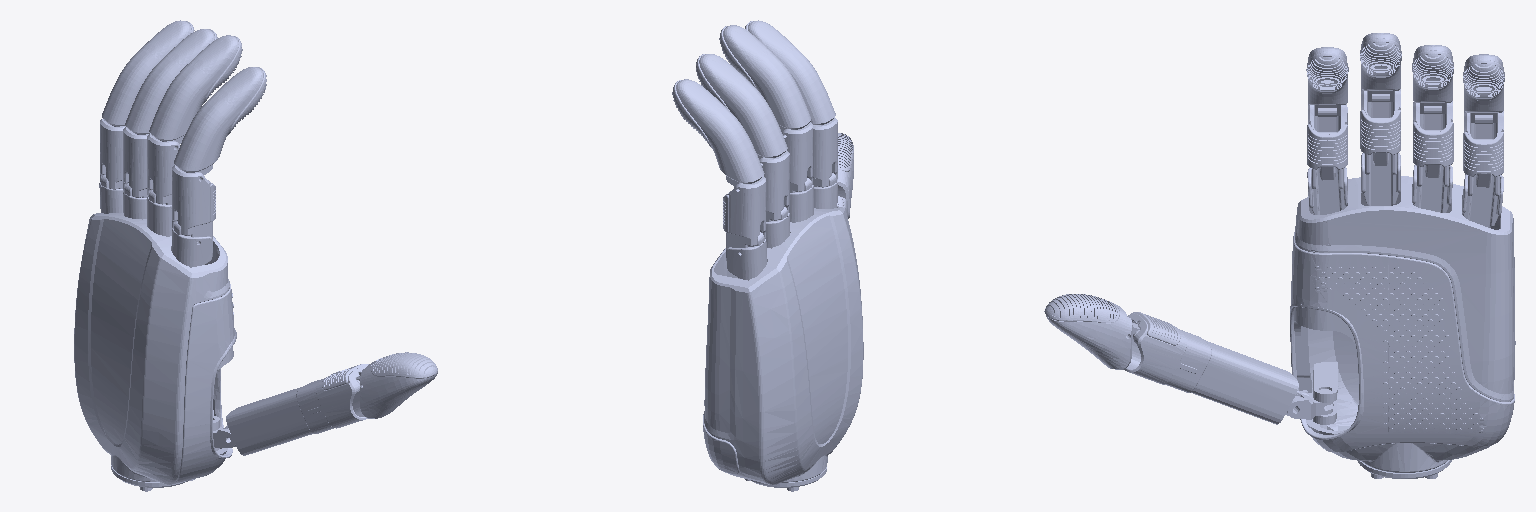
URDF robot description (hand):
<?xml version='1.0' encoding='UTF-8'?>
<robot name="hand">
  <material name="black">
    <color rgba="0.0 0.0 0.0 1.0" />
  </material>
  <material name="blue">
    <color rgba="0.0 0.0 0.8 1.0" />
  </material>
  <material name="green">
    <color rgba="0.0 0.8 0.0 1.0" />
  </material>
  <material name="grey">
    <color rgba="0.2 0.2 0.2 1.0" />
  </material>
  <material name="orange">
    <color rgba="1.0 0.423529411765 0.0392156862745 1.0" />
  </material>
  <material name="brown">
    <color rgba="0.870588235294 0.811764705882 0.764705882353 1.0" />
  </material>
  <material name="red">
    <color rgba="0.8 0.0 0.0 1.0" />
  </material>
  <material name="white">
    <color rgba="1.0 1.0 1.0 1.0" />
  </material>
  <material name="Beige">
    <color rgba="1.0 0.784 0.5765 1.0" />
  </material>
  <link name="lh_hand_base_link">
    <inertial>
      <origin xyz="0.00199 -0.00091 0.058381" rpy="0 0 0" />
      <mass value="0.4185" />
      <inertia ixx="0.0004998" ixy="0.000012853" ixz="-0.000008317" iyy="0.0003567" iyz="0.000010354" izz="0.0002301" />
    </inertial>
    <visual>
      <origin xyz="0 0 0" rpy="0 0 0" />
      <geometry>
        <mesh filename="meshes/visual/lh_hand_base_link_vis.obj" />
      </geometry>
      <material name="">
        <color rgba="0.796078431372549 0.823529411764706 0.937254901960784 1" />
      </material>
    </visual>
    <collision>
      <origin xyz="0 0 0" rpy="0 0 0" />
      <geometry>
        <mesh filename="meshes/visual/lh_hand_base_link_vis.obj" />
      </geometry>
    </collision>
  </link>
  <link name="lh_thumb_metacarpals_base1">
    <inertial>
      <origin xyz="0.0018663 -0.0066406 0.001533" rpy="0 0 0" />
      <mass value="0.01" />
      <inertia ixx="3.3724E-07" ixy="1.11E-07" ixz="-3.6039E-08" iyy="2.9457E-07" iyz="5.7181E-08" izz="4.903E-07" />
    </inertial>
    <visual>
      <origin xyz="0 0 0" rpy="0 0 0" />
      <geometry>
        <mesh filename="meshes/visual/lh_thumb_metacarpals_base1_vis.obj" />
      </geometry>
      <material name="">
        <color rgba="0.796078431372549 0.823529411764706 0.937254901960784 1" />
      </material>
    </visual>
    <collision>
      <origin xyz="0 0 0" rpy="0 0 0" />
      <geometry>
        <mesh filename="meshes/visual/lh_thumb_metacarpals_base1_vis.obj" />
      </geometry>
    </collision>
  </link>
  <joint name="lh_thumb_cmc_roll" type="revolute">
    <origin xyz="0.0078133 -0.029898 0.026692" rpy="-0.034907 0 0" />
    <parent link="lh_hand_base_link" />
    <child link="lh_thumb_metacarpals_base1" />
    <axis xyz="0 0 1" />
    <limit lower="-0.087266" upper="1.256637" effort="0.588" velocity="5.95" />
    <dynamics damping="0.02" friction="0.05416667" />
  </joint>
  <link name="lh_thumb_metacarpals">
    <inertial>
      <origin xyz="0.00769270907060086 0.0859662184722988 0.0235283086675235" rpy="0 0 0" />
      <mass value="0.065" />
      <inertia ixx="8.407E-06" ixy="-1.1338E-09" ixz="1.1136E-08" iyy="8.3899E-06" iyz="3.1171E-07" izz="2.0091E-06" />
    </inertial>
    <visual>
      <origin xyz="0 0 0" rpy="0 0 0" />
      <geometry>
        <mesh filename="meshes/visual/lh_thumb_metacarpals_vis.obj" />
      </geometry>
      <material name="">
        <color rgba="0.796078431372549 0.823529411764706 0.937254901960784 1" />
      </material>
    </visual>
    <collision>
      <origin xyz="0 0 0" rpy="0 0 0" />
      <geometry>
        <mesh filename="meshes/visual/lh_thumb_metacarpals_vis.obj" />
      </geometry>
    </collision>
  </link>
  <joint name="lh_thumb_cmc_pitch" type="revolute">
    <origin xyz="0.0057298 -0.01332 0.0027456" rpy="1.1083 0 0.40143" />
    <parent link="lh_thumb_metacarpals_base1" />
    <child link="lh_thumb_metacarpals" />
    <axis xyz="-1 0 0" />
    <limit lower="0" upper="0.837758" effort="1.008" velocity="3.47" />
    <dynamics damping="0.02" friction="0.0375" />
  </joint>
  <link name="lh_thumb_distal">
    <inertial>
      <origin xyz="0.00769270907081708 0.0798662184721594 -0.0591716913325555" rpy="0 0 0" />
      <mass value="0.018" />
      <inertia ixx="1.5546E-06" ixy="2.4423E-09" ixz="2.8147E-09" iyy="1.7108E-06" iyz="-7.2756E-08" izz="9.1709E-07" />
    </inertial>
    <visual>
      <origin xyz="0 0 0" rpy="0 0 0" />
      <geometry>
        <mesh filename="meshes/visual/lh_thumb_distal_vis.obj" />
      </geometry>
      <material name="">
        <color rgba="0.796078431372549 0.823529411764706 0.937254901960784 1" />
      </material>
    </visual>
    <collision>
      <origin xyz="0 0 0" rpy="0 0 0" />
      <geometry>
        <mesh filename="meshes/visual/lh_thumb_distal_vis.obj" />
      </geometry>
    </collision>
  </link>
  <link name="lh_thumb_tip">
    <visual>
      <origin xyz="0 0 0" rpy="0 0 0" />
      <geometry>
        <box size="0.0001 0.0001 0.0001" />
      </geometry>
      <material name="white" />
    </visual>
    <collision>
      <origin xyz="0 0 0" rpy="0 0 0" />
      <geometry>
        <box size="0.0001 0.0001 0.0001" />
      </geometry>
    </collision>
    <inertial>
      <origin xyz="0 0 0" rpy="0 0 0" />
      <mass value="1e-06" />
      <inertia ixx="1e-09" ixy="0" ixz="0" iyy="1e-09" iyz="0" izz="1e-09" />
    </inertial>
  </link>
  <joint name="lh_thumb_tip_fixed" type="fixed">
    <origin xyz="0 0.0035 0.026" rpy="0 0 1.5708" />
    <parent link="lh_thumb_distal" />
    <child link="lh_thumb_tip" />
  </joint>
  <joint name="lh_thumb_dip" type="revolute">
    <origin xyz="0 0.0061 0.0827" rpy="0 0 0" />
    <parent link="lh_thumb_metacarpals" />
    <child link="lh_thumb_distal" />
    <axis xyz="-1 0 0" />
    <limit lower="0" upper="0.963287" effort="0" velocity="1.7" />
    <mimic joint="lh_thumb_cmc_pitch" multiplier="1.226495" offset="0" />
  </joint>
  <link name="lh_index_proximal">
    <inertial>
      <origin xyz="0.001776 -0.00011 0.012556" rpy="0 0 0" />
      <mass value="0.008553" />
      <inertia ixx="0.000000797543" ixy="-0.000000001275" ixz="0.000000138601" iyy="0.000000800499" iyz="0.000000000939" izz="0.000000357001" />
    </inertial>
    <visual>
      <origin xyz="0 0 0" rpy="0 0 0" />
      <geometry>
        <mesh filename="meshes/visual/lh_index_proximal_vis.obj" />
      </geometry>
      <material name="">
        <color rgba="0.796078431372549 0.823529411764706 0.937254901960784 1" />
      </material>
    </visual>
    <collision>
      <origin xyz="0 0 0" rpy="0 0 0" />
      <geometry>
        <mesh filename="meshes/visual/lh_index_proximal_vis.obj" />
      </geometry>
    </collision>
  </link>
  <joint name="lh_index_mcp_pitch" type="revolute">
    <origin xyz="-0.00066821 -0.028967 0.11722" rpy="0 0 0" />
    <parent link="lh_hand_base_link" />
    <child link="lh_index_proximal" />
    <axis xyz="0 1 0" />
    <limit lower="0" upper="1.134464" effort="0.574" velocity="6.10" />
    <dynamics damping="0.01" friction="0.04" />
  </joint>
  <link name="lh_index_distal">
    <inertial>
      <origin xyz="0.0134 0.002262 0.016992" rpy="0 0 0" />
      <mass value="0.018408" />
      <inertia ixx="0.000002488712" ixy="0.000000008249" ixz="-0.000001523059" iyy="0.000003723754" iyz="0.000000014019" izz="0.000001813582" />
    </inertial>
    <visual>
      <origin xyz="0 0 0" rpy="0 0 0" />
      <geometry>
        <mesh filename="meshes/visual/lh_index_distal_vis.obj" />
      </geometry>
      <material name="">
        <color rgba="0.796078431372549 0.823529411764706 0.937254901960784 1" />
      </material>
    </visual>
    <collision>
      <origin xyz="0 0 0" rpy="0 0 0" />
      <geometry>
        <mesh filename="meshes/visual/lh_index_distal_vis.obj" />
      </geometry>
    </collision>
  </link>
  <link name="lh_index_tip">
    <visual>
      <origin xyz="0 0 0" rpy="0 0 0" />
      <geometry>
        <box size="0.0001 0.0001 0.0001" />
      </geometry>
      <material name="white" />
    </visual>
    <collision>
      <origin xyz="0 0 0" rpy="0 0 0" />
      <geometry>
        <box size="0.0001 0.0001 0.0001" />
      </geometry>
    </collision>
    <inertial>
      <origin xyz="0 0 0" rpy="0 0 0" />
      <mass value="1e-06" />
      <inertia ixx="1e-09" ixy="0" ixz="0" iyy="1e-09" iyz="0" izz="1e-09" />
    </inertial>
  </link>
  <joint name="lh_index_tip_fixed" type="fixed">
    <origin xyz="0.0341 0 0.034" rpy="0 0 0" />
    <parent link="lh_index_distal" />
    <child link="lh_index_tip" />
  </joint>
  <joint name="lh_index_dip" type="revolute">
    <origin xyz="0.00093749 0 0.028002" rpy="0 0 0" />
    <parent link="lh_index_proximal" />
    <child link="lh_index_distal" />
    <axis xyz="0 1 0" />
    <limit lower="0" upper="1.277039" effort="0" velocity="3.1" />
    <mimic joint="lh_index_mcp_pitch" multiplier="1.125676" offset="0" />
  </joint>
  <link name="lh_middle_proximal">
    <inertial>
      <origin xyz="0.001776 -0.00011 0.012556" rpy="0 0 0" />
      <mass value="0.008553" />
      <inertia ixx="0.000000797543" ixy="-0.000000001275" ixz="0.000000138601" iyy="0.000000800499" iyz="0.000000000939" izz="0.000000357001" />
    </inertial>
    <visual>
      <origin xyz="0 0 0" rpy="0 0 0" />
      <geometry>
        <mesh filename="meshes/visual/lh_middle_proximal_vis.obj" />
      </geometry>
      <material name="">
        <color rgba="0.796078431372549 0.823529411764706 0.937254901960784 1" />
      </material>
    </visual>
    <collision>
      <origin xyz="0 0 0" rpy="0 0 0" />
      <geometry>
        <mesh filename="meshes/visual/lh_middle_proximal_vis.obj" />
      </geometry>
    </collision>
  </link>
  <joint name="lh_middle_mcp_pitch" type="revolute">
    <origin xyz="-0.00066821 -0.0089013 0.12322" rpy="0 0 0" />
    <parent link="lh_hand_base_link" />
    <child link="lh_middle_proximal" />
    <axis xyz="0 1 0" />
    <limit lower="0" upper="1.134464" effort="0.574" velocity="6.10" />
    <dynamics damping="0.01" friction="0.02708333" />
  </joint>
  <link name="lh_middle_distal">
    <inertial>
      <origin xyz="0.0134 0.002262 0.016992" rpy="0 0 0" />
      <mass value="0.018408" />
      <inertia ixx="0.000002488712" ixy="0.000000008249" ixz="-0.000001523059" iyy="0.000003723754" iyz="0.000000014019" izz="0.000001813582" />
    </inertial>
    <visual>
      <origin xyz="0 0 0" rpy="0 0 0" />
      <geometry>
        <mesh filename="meshes/visual/lh_middle_distal_vis.obj" />
      </geometry>
      <material name="">
        <color rgba="0.796078431372549 0.823529411764706 0.937254901960784 1" />
      </material>
    </visual>
    <collision>
      <origin xyz="0 0 0" rpy="0 0 0" />
      <geometry>
        <mesh filename="meshes/visual/lh_middle_distal_vis.obj" />
      </geometry>
    </collision>
  </link>
  <link name="lh_middle_tip">
    <visual>
      <origin xyz="0 0 0" rpy="0 0 0" />
      <geometry>
        <box size="0.0001 0.0001 0.0001" />
      </geometry>
      <material name="white" />
    </visual>
    <collision>
      <origin xyz="0 0 0" rpy="0 0 0" />
      <geometry>
        <box size="0.0001 0.0001 0.0001" />
      </geometry>
    </collision>
    <inertial>
      <origin xyz="0 0 0" rpy="0 0 0" />
      <mass value="1e-06" />
      <inertia ixx="1e-09" ixy="0" ixz="0" iyy="1e-09" iyz="0" izz="1e-09" />
    </inertial>
  </link>
  <joint name="lh_middle_tip_fixed" type="fixed">
    <origin xyz="0.0341 0 0.034" rpy="0 0 0" />
    <parent link="lh_middle_distal" />
    <child link="lh_middle_tip" />
  </joint>
  <joint name="lh_middle_dip" type="revolute">
    <origin xyz="0.00093749 0 0.028002" rpy="0 0 0" />
    <parent link="lh_middle_proximal" />
    <child link="lh_middle_distal" />
    <axis xyz="0 1 0" />
    <limit lower="0" upper="1.277039" effort="0" velocity="3.1" />
    <mimic joint="lh_middle_mcp_pitch" multiplier="1.125676" offset="0" />
  </joint>
  <link name="lh_ring_proximal">
    <inertial>
      <origin xyz="0.001776 -0.00011 0.012556" rpy="0 0 0" />
      <mass value="0.008553" />
      <inertia ixx="0.000000797543" ixy="-0.000000001275" ixz="0.000000138601" iyy="0.000000800499" iyz="0.000000000939" izz="0.000000357001" />
    </inertial>
    <visual>
      <origin xyz="0 0 0" rpy="0 0 0" />
      <geometry>
        <mesh filename="meshes/visual/lh_ring_proximal_vis.obj" />
      </geometry>
      <material name="">
        <color rgba="0.796078431372549 0.823529411764706 0.937254901960784 1" />
      </material>
    </visual>
    <collision>
      <origin xyz="0 0 0" rpy="0 0 0" />
      <geometry>
        <mesh filename="meshes/visual/lh_ring_proximal_vis.obj" />
      </geometry>
    </collision>
  </link>
  <joint name="lh_ring_mcp_pitch" type="revolute">
    <origin xyz="-0.00067368 0.010717 0.11822" rpy="0 0 0" />
    <parent link="lh_hand_base_link" />
    <child link="lh_ring_proximal" />
    <axis xyz="0 1 0" />
    <limit lower="0" upper="1.134464" effort="0.574" velocity="6.10" />
    <dynamics damping="0.01" friction="0.02291667" />
  </joint>
  <link name="lh_ring_distal">
    <inertial>
      <origin xyz="0.0134 0.002262 0.016992" rpy="0 0 0" />
      <mass value="0.018408" />
      <inertia ixx="0.000002488712" ixy="0.000000008249" ixz="-0.000001523059" iyy="0.000003723754" iyz="0.000000014019" izz="0.000001813582" />
    </inertial>
    <visual>
      <origin xyz="0 0 0" rpy="0 0 0" />
      <geometry>
        <mesh filename="meshes/visual/lh_ring_distal_vis.obj" />
      </geometry>
      <material name="">
        <color rgba="0.796078431372549 0.823529411764706 0.937254901960784 1" />
      </material>
    </visual>
    <collision>
      <origin xyz="0 0 0" rpy="0 0 0" />
      <geometry>
        <mesh filename="meshes/visual/lh_ring_distal_vis.obj" />
      </geometry>
    </collision>
  </link>
  <link name="lh_ring_tip">
    <visual>
      <origin xyz="0 0 0" rpy="0 0 0" />
      <geometry>
        <box size="0.0001 0.0001 0.0001" />
      </geometry>
      <material name="white" />
    </visual>
    <collision>
      <origin xyz="0 0 0" rpy="0 0 0" />
      <geometry>
        <box size="0.0001 0.0001 0.0001" />
      </geometry>
    </collision>
    <inertial>
      <origin xyz="0 0 0" rpy="0 0 0" />
      <mass value="1e-06" />
      <inertia ixx="1e-09" ixy="0" ixz="0" iyy="1e-09" iyz="0" izz="1e-09" />
    </inertial>
  </link>
  <joint name="lh_ring_tip_fixed" type="fixed">
    <origin xyz="0.0341 0 0.034" rpy="0 0 0" />
    <parent link="lh_ring_distal" />
    <child link="lh_ring_tip" />
  </joint>
  <joint name="lh_ring_dip" type="revolute">
    <origin xyz="0.00093749 0 0.028002" rpy="0 0 0" />
    <parent link="lh_ring_proximal" />
    <child link="lh_ring_distal" />
    <axis xyz="0 1 0" />
    <limit lower="0" upper="1.277039" effort="0" velocity="3.1" />
    <mimic joint="lh_ring_mcp_pitch" multiplier="1.125676" offset="0" />
  </joint>
  <link name="lh_pinky_proximal">
    <inertial>
      <origin xyz="0.001776 -0.00011 0.012556" rpy="0 0 0" />
      <mass value="0.008553" />
      <inertia ixx="0.000000797543" ixy="-0.000000001275" ixz="0.000000138601" iyy="0.000000800499" iyz="0.000000000939" izz="0.000000357001" />
    </inertial>
    <visual>
      <origin xyz="0 0 0" rpy="0 0 0" />
      <geometry>
        <mesh filename="meshes/visual/lh_pinky_proximal_vis.obj" />
      </geometry>
      <material name="">
        <color rgba="0.796078431372549 0.823529411764706 0.937254901960784 1" />
      </material>
    </visual>
    <collision>
      <origin xyz="0 0 0" rpy="0 0 0" />
      <geometry>
        <mesh filename="meshes/visual/lh_pinky_proximal_vis.obj" />
      </geometry>
    </collision>
  </link>
  <joint name="lh_pinky_mcp_pitch" type="revolute">
    <origin xyz="-0.00067852 0.029814 0.11424" rpy="0 0 0" />
    <parent link="lh_hand_base_link" />
    <child link="lh_pinky_proximal" />
    <axis xyz="0 1 0" />
    <limit lower="0" upper="1.134464" effort="0.574" velocity="6.10" />
    <dynamics damping="0.01" friction="0.01" />
  </joint>
  <link name="lh_pinky_distal">
    <inertial>
      <origin xyz="0.0134 0.002262 0.016992" rpy="0 0 0" />
      <mass value="0.018408" />
      <inertia ixx="0.000002488712" ixy="0.000000008249" ixz="-0.000001523059" iyy="0.000003723754" iyz="0.000000014019" izz="0.000001813582" />
    </inertial>
    <visual>
      <origin xyz="0 0 0" rpy="0 0 0" />
      <geometry>
        <mesh filename="meshes/visual/lh_pinky_distal_vis.obj" />
      </geometry>
      <material name="">
        <color rgba="0.796078431372549 0.823529411764706 0.937254901960784 1" />
      </material>
    </visual>
    <collision>
      <origin xyz="0 0 0" rpy="0 0 0" />
      <geometry>
        <mesh filename="meshes/visual/lh_pinky_distal_vis.obj" />
      </geometry>
    </collision>
  </link>
  <link name="lh_pinky_tip">
    <visual>
      <origin xyz="0 0 0" rpy="0 0 0" />
      <geometry>
        <box size="0.0001 0.0001 0.0001" />
      </geometry>
      <material name="white" />
    </visual>
    <collision>
      <origin xyz="0 0 0" rpy="0 0 0" />
      <geometry>
        <box size="0.0001 0.0001 0.0001" />
      </geometry>
    </collision>
    <inertial>
      <origin xyz="0 0 0" rpy="0 0 0" />
      <mass value="1e-06" />
      <inertia ixx="1e-09" ixy="0" ixz="0" iyy="1e-09" iyz="0" izz="1e-09" />
    </inertial>
  </link>
  <joint name="lh_pinky_tip_fixed" type="fixed">
    <origin xyz="0.0341 0 0.034" rpy="0 0 0" />
    <parent link="lh_pinky_distal" />
    <child link="lh_pinky_tip" />
  </joint>
  <joint name="lh_pinky_dip" type="revolute">
    <origin xyz="0.00093749 0 0.028002" rpy="0 0 0" />
    <parent link="lh_pinky_proximal" />
    <child link="lh_pinky_distal" />
    <axis xyz="0 1 0" />
    <limit lower="0" upper="1.277039" effort="0" velocity="3.1" />
    <mimic joint="lh_pinky_mcp_pitch" multiplier="1.125676" offset="0" />
  </joint>
  <transmission name="trans_thumb_cmc_roll">
    <type>transmission_interface/SimpleTransmission</type>
    <joint name="lh_thumb_cmc_roll">
      <hardwareInterface>hardware_interface/EffortJointInterface</hardwareInterface>
    </joint>
    <actuator name="motor_thumb_cmc_roll">
      <hardwareInterface>hardware_interface/EffortJointInterface</hardwareInterface>
      <mechanicalReduction>0.0084</mechanicalReduction>
    </actuator>
  </transmission>
  <transmission name="trans_index_mcp_pitch">
    <type>transmission_interface/SimpleTransmission</type>
    <joint name="lh_index_mcp_pitch">
      <hardwareInterface>hardware_interface/EffortJointInterface</hardwareInterface>
    </joint>
    <actuator name="motor_index_mcp_pitch">
      <hardwareInterface>hardware_interface/EffortJointInterface</hardwareInterface>
      <mechanicalReduction>0.0082</mechanicalReduction>
    </actuator>
  </transmission>
  <transmission name="trans_middle_mcp_pitch">
    <type>transmission_interface/SimpleTransmission</type>
    <joint name="lh_middle_mcp_pitch">
      <hardwareInterface>hardware_interface/EffortJointInterface</hardwareInterface>
    </joint>
    <actuator name="motor_middle_mcp_pitch">
      <hardwareInterface>hardware_interface/EffortJointInterface</hardwareInterface>
      <mechanicalReduction>0.0082</mechanicalReduction>
    </actuator>
  </transmission>
  <transmission name="trans_ring_mcp_pitch">
    <type>transmission_interface/SimpleTransmission</type>
    <joint name="lh_ring_mcp_pitch">
      <hardwareInterface>hardware_interface/EffortJointInterface</hardwareInterface>
    </joint>
    <actuator name="motor_ring_mcp_pitch">
      <hardwareInterface>hardware_interface/EffortJointInterface</hardwareInterface>
      <mechanicalReduction>0.0082</mechanicalReduction>
    </actuator>
  </transmission>
  <transmission name="trans_pinky_mcp_pitch">
    <type>transmission_interface/SimpleTransmission</type>
    <joint name="lh_pinky_mcp_pitch">
      <hardwareInterface>hardware_interface/EffortJointInterface</hardwareInterface>
    </joint>
    <actuator name="motor_pinky_mcp_pitch">
      <hardwareInterface>hardware_interface/EffortJointInterface</hardwareInterface>
      <mechanicalReduction>0.0082</mechanicalReduction>
    </actuator>
  </transmission>
  <transmission name="trans_thumb_cmc_pitch">
    <type>transmission_interface/SimpleTransmission</type>
    <joint name="lh_thumb_cmc_pitch">
      <hardwareInterface>hardware_interface/EffortJointInterface</hardwareInterface>
    </joint>
    <actuator name="motor_thumb_cmc_pitch">
      <hardwareInterface>hardware_interface/EffortJointInterface</hardwareInterface>
      <mechanicalReduction>0.0144</mechanicalReduction>
    </actuator>
  </transmission>
  <mujoco>
    <compiler balanceinertia="true" discardvisual="false" />
    <default>
      <joint armature="3.4707e-08" damping="5.0" frictionloss="0.5" />
    </default>
    <equality>
      <joint name="lh_couple_index" joint1="lh_index_dip" joint2="lh_index_mcp_pitch" polycoef="0 1.125676 0 0 0 0" />
      <joint name="lh_couple_middle" joint1="lh_middle_dip" joint2="lh_middle_mcp_pitch" polycoef="0 1.125676 0 0 0 0" />
      <joint name="lh_couple_ring" joint1="lh_ring_dip" joint2="lh_ring_mcp_pitch" polycoef="0 1.125676 0 0 0 0" />
      <joint name="lh_couple_pinky" joint1="lh_pinky_dip" joint2="lh_pinky_mcp_pitch" polycoef="0 1.125676 0 0 0 0" />
      <joint name="lh_couple_thumb" joint1="lh_thumb_dip" joint2="lh_thumb_cmc_pitch" polycoef="0 1.226495 0 0 0 0" />
    </equality>
  </mujoco>
</robot>

--- What the picture shows (computed from the rendered views, not written in the file) ---
The picture shows the robot from 3 angles, left to right: view 1: azimuth 30°, elevation 25°; view 2: azimuth 150°, elevation 25°; view 3: azimuth 270°, elevation 25°; orthographic projection.
Model hand with 17 links and 16 joints (11 revolute, 5 fixed), rooted at lh_hand_base_link, posed all joints at 0.
Visible links, largest first — view 1: lh_hand_base_link, lh_thumb_metacarpals, lh_index_distal, lh_middle_distal, lh_thumb_distal, lh_pinky_distal, lh_ring_distal, lh_index_proximal, lh_middle_proximal, lh_ring_proximal, lh_pinky_proximal; view 2: lh_hand_base_link, lh_pinky_distal, lh_middle_distal, lh_ring_distal, lh_index_distal, lh_pinky_proximal, lh_ring_proximal, lh_middle_proximal, lh_index_proximal, lh_thumb_distal; view 3: lh_hand_base_link, lh_thumb_metacarpals, lh_thumb_distal, lh_middle_distal, lh_ring_distal, lh_pinky_distal, lh_index_distal, lh_ring_proximal, lh_middle_proximal, lh_pinky_proximal, lh_index_proximal, lh_thumb_metacarpals_base1.
Link boxes in pixels (bbox=[...]): lh_hand_base_link: bbox=[74, 175, 236, 491]; lh_thumb_metacarpals: bbox=[226, 364, 368, 455]; lh_index_distal: bbox=[174, 67, 266, 174]; lh_middle_distal: bbox=[149, 35, 242, 143]; lh_thumb_distal: bbox=[360, 352, 437, 418]; lh_pinky_distal: bbox=[102, 20, 194, 126]; lh_ring_distal: bbox=[125, 29, 217, 134]; lh_index_proximal: bbox=[172, 165, 215, 243]; lh_middle_proximal: bbox=[147, 133, 179, 204]; lh_ring_proximal: bbox=[123, 127, 148, 197]; lh_pinky_proximal: bbox=[100, 119, 125, 189]; lh_hand_base_link: bbox=[703, 173, 863, 491]; lh_pinky_distal: bbox=[672, 79, 764, 186]; lh_middle_distal: bbox=[719, 25, 810, 131]; lh_ring_distal: bbox=[696, 54, 787, 158]; lh_index_distal: bbox=[745, 20, 835, 125]; lh_pinky_proximal: bbox=[723, 176, 765, 249]; lh_ring_proximal: bbox=[759, 150, 789, 221]; lh_middle_proximal: bbox=[782, 122, 812, 192]; lh_index_proximal: bbox=[813, 117, 837, 187]; lh_thumb_distal: bbox=[837, 133, 853, 218]; lh_hand_base_link: bbox=[1290, 153, 1515, 478]; lh_thumb_metacarpals: bbox=[1124, 312, 1298, 424]; lh_thumb_distal: bbox=[1044, 294, 1132, 369]; lh_middle_distal: bbox=[1360, 33, 1401, 102]; lh_ring_distal: bbox=[1412, 45, 1453, 114]; lh_pinky_distal: bbox=[1463, 54, 1504, 123]; lh_index_distal: bbox=[1306, 47, 1348, 116]; lh_ring_proximal: bbox=[1413, 101, 1453, 186]; lh_middle_proximal: bbox=[1360, 89, 1400, 174]; lh_pinky_proximal: bbox=[1463, 111, 1503, 195]; lh_index_proximal: bbox=[1307, 104, 1347, 188]; lh_thumb_metacarpals_base1: bbox=[1287, 389, 1333, 419].
Bounding box of the posed robot: 0.08 × 0.177 × 0.193 m (x, y, z).
Meshes: 12 distinct files referenced, 12 mesh visuals loaded (12 OBJ).
